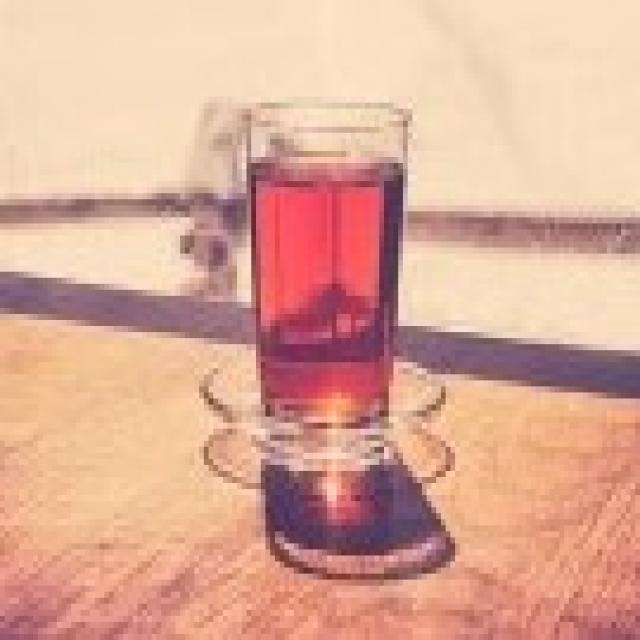electronic: (244, 95, 412, 432)
